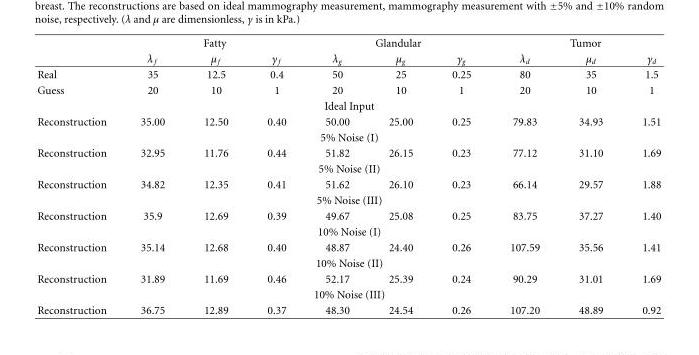table: (36, 36, 660, 315)
table column: (36, 36, 122, 315), (489, 36, 558, 315), (183, 36, 247, 315), (305, 36, 368, 315), (368, 36, 431, 315), (558, 36, 621, 315), (122, 36, 183, 315), (247, 36, 305, 315), (431, 36, 489, 315), (621, 36, 660, 315)
table column header: (36, 36, 660, 66)
table projected row header: (36, 97, 660, 113), (36, 160, 660, 176), (36, 191, 660, 207), (36, 223, 660, 239), (36, 254, 660, 270), (36, 286, 660, 302), (36, 129, 660, 144)
table row: (36, 50, 660, 66), (36, 81, 660, 97), (36, 97, 660, 113), (36, 113, 660, 129), (36, 144, 660, 160), (36, 160, 660, 176), (36, 191, 660, 207), (36, 207, 660, 223), (36, 223, 660, 239), (36, 254, 660, 270), (36, 270, 660, 286), (36, 286, 660, 302), (36, 66, 660, 81), (36, 129, 660, 144), (36, 176, 660, 191), (36, 239, 660, 254), (36, 36, 660, 50), (36, 302, 660, 315)
table spanning cell: (305, 36, 489, 50), (122, 36, 305, 50), (489, 36, 660, 50)
